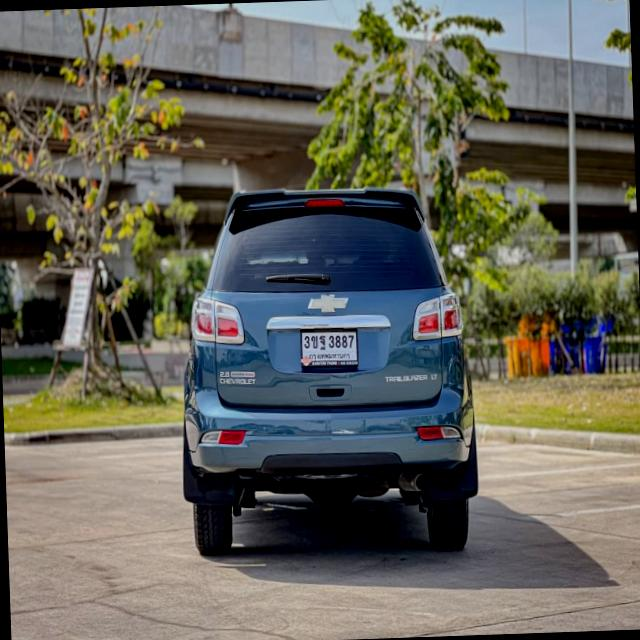license_plate: (298, 326, 360, 371)
